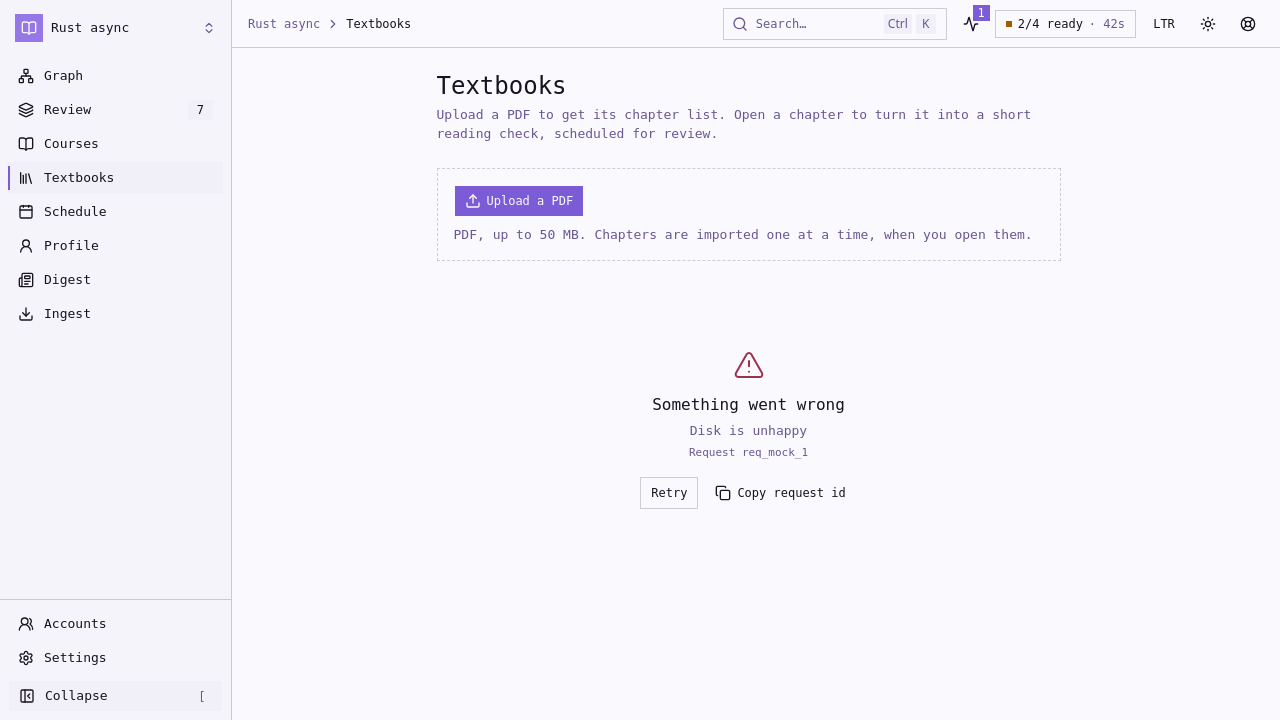
it: Textbook list › shows an error with a retry that recovers
Expected: the message shows "Disk is unhappy", 690,423 -> 807,438
Click the button "Retry": (669, 493) 640,477 -> 698,509
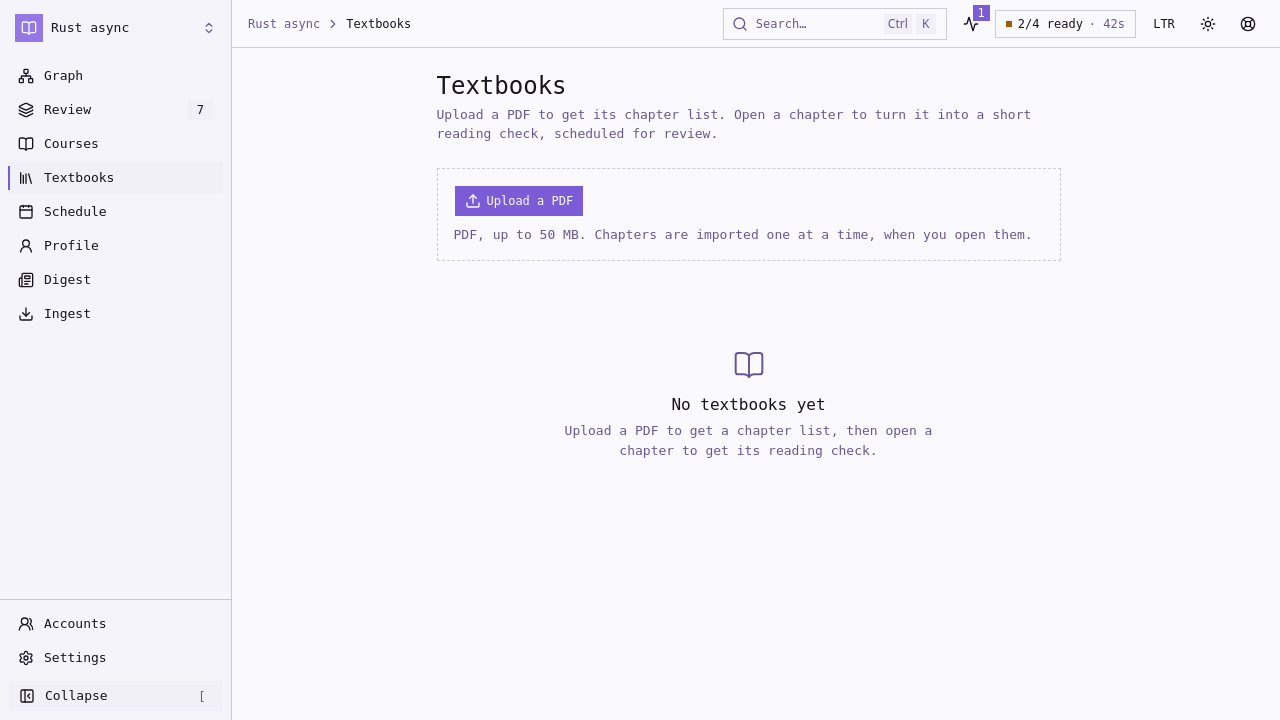
Now the heading "No textbooks yet" is shown, box 671,395 -> 826,414
